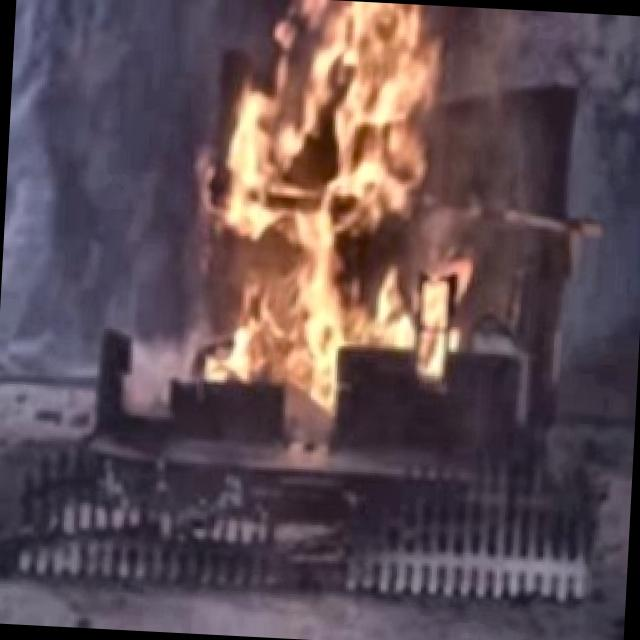fire: (147, 0, 509, 437)
